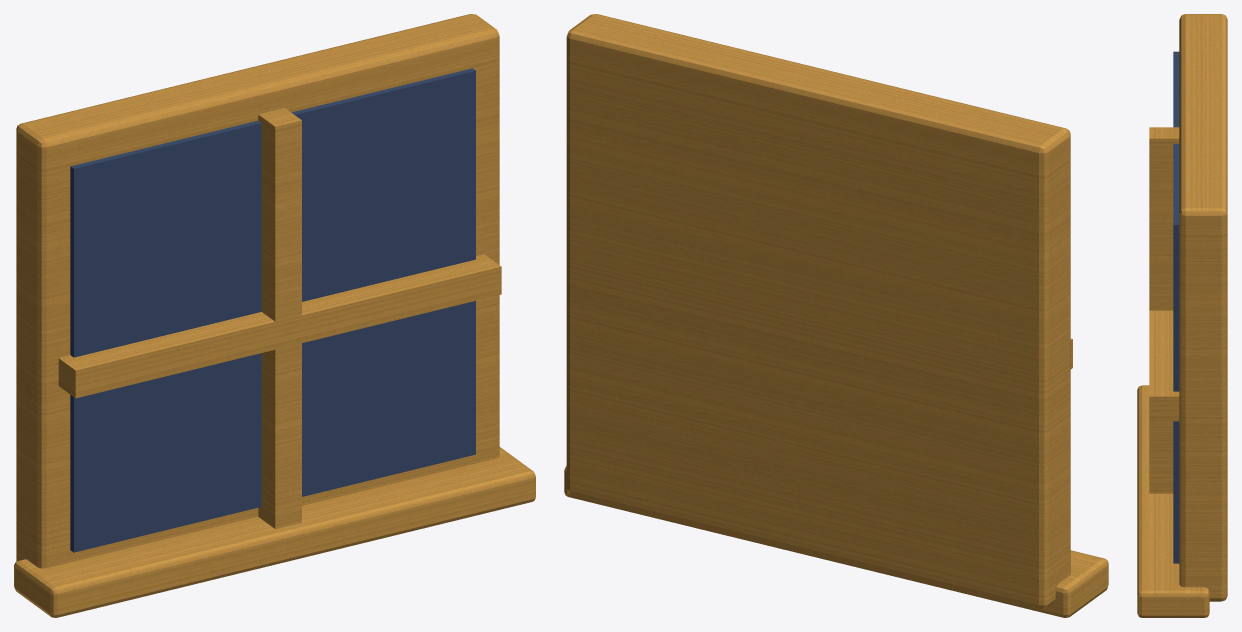
The model's file is act3_cottage_window.glb.
3 views of the same model, side by side, from view 1: azimuth 30°, elevation 25°; view 2: azimuth 150°, elevation 25°; view 3: azimuth 270°, elevation 25° (orthographic). The views are drawn at different scales.
Visible parts, largest first — view 1: ANIM_Act3_WinGlass, SM_Act3_WindowFrame; view 2: SM_Act3_WindowFrame; view 3: SM_Act3_WindowFrame, ANIM_Act3_WinGlass.
Part boxes in pixels (x1,y1,x2,y2): ANIM_Act3_WinGlass: (70,68,475,552); SM_Act3_WindowFrame: (14,14,535,617); SM_Act3_WindowFrame: (564,14,1108,617); SM_Act3_WindowFrame: (1137,14,1227,617); ANIM_Act3_WinGlass: (1173,51,1179,563).
Bounding box in the file's own units: 0.82 × 0.74 × 0.15.
2 materials, 1 textured.
